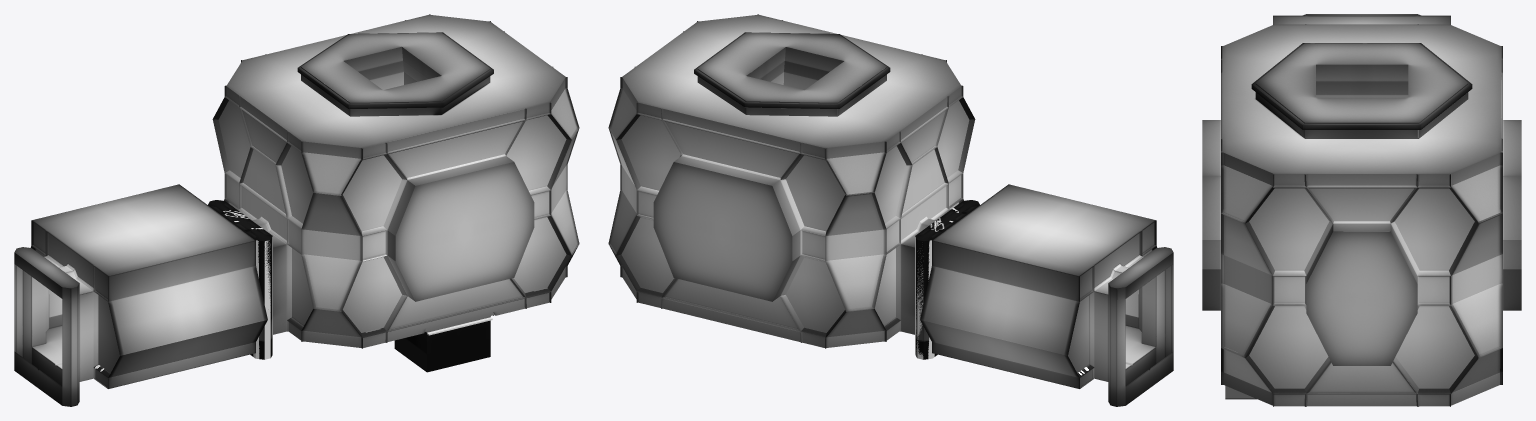
The model's file is LoadingBay.dae.
The picture shows the model from 3 angles, left to right: view 1: azimuth 30°, elevation 25°; view 2: azimuth 150°, elevation 25°; view 3: azimuth 270°, elevation 25°; orthographic projection. The views are drawn at different scales.
Visible parts, largest first — view 1: LoadingBay_Main5, LoadingBay_Corridor, LoadingBay_Ceiling, LoadingBay_Wall, LoadingBay_Floor, LoadingBay_DoorUpper; view 2: LoadingBay_Main6, LoadingBay_Corridor, LoadingBay_Ceiling, LoadingBay_Wall; view 3: LoadingBay_Main3, LoadingBay_Ceiling, LoadingBay_Main5, LoadingBay_Main6, LoadingBay_Corridor.
Boxes of the visible parts, x1=… form: LoadingBay_Main5: x1=301, y1=77, x2=579, y2=348; LoadingBay_Corridor: x1=14, y1=184, x2=272, y2=406; LoadingBay_Ceiling: x1=226, y1=14, x2=565, y2=148; LoadingBay_Wall: x1=212, y1=86, x2=313, y2=340; LoadingBay_Floor: x1=394, y1=312, x2=495, y2=372; LoadingBay_DoorUpper: x1=256, y1=236, x2=272, y2=319; LoadingBay_Main6: x1=608, y1=77, x2=886, y2=348; LoadingBay_Corridor: x1=915, y1=184, x2=1173, y2=406; LoadingBay_Ceiling: x1=622, y1=14, x2=961, y2=148; LoadingBay_Wall: x1=874, y1=86, x2=975, y2=340; LoadingBay_Main3: x1=1245, y1=174, x2=1478, y2=406; LoadingBay_Ceiling: x1=1222, y1=24, x2=1501, y2=173; LoadingBay_Main5: x1=1202, y1=24, x2=1273, y2=405; LoadingBay_Main6: x1=1450, y1=24, x2=1521, y2=405; LoadingBay_Corridor: x1=1273, y1=14, x2=1450, y2=24.
Size of what is drawn, in the model's own units: 24.03 by 11.6 by 11.35.
12 materials, 7 textured.
